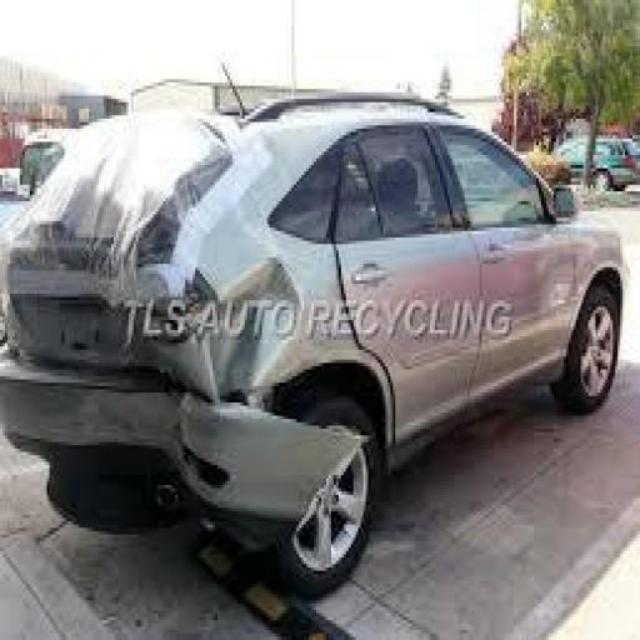crash: (4, 106, 376, 543)
